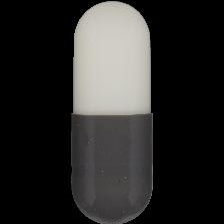63629-5008: (0, 0, 224, 224)
